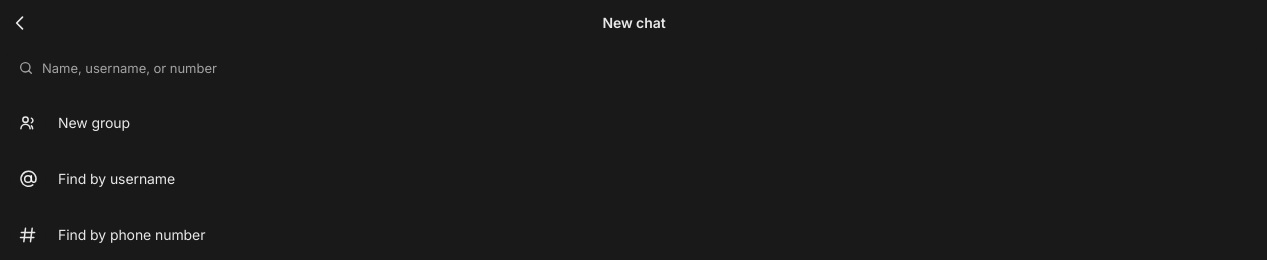
Test: NewChatPanel › offers to add a number that is not yet a contact
In the field with placeholder "Name, username, or number": (646, 68) [42,55,1250,81], type "+15559998888"
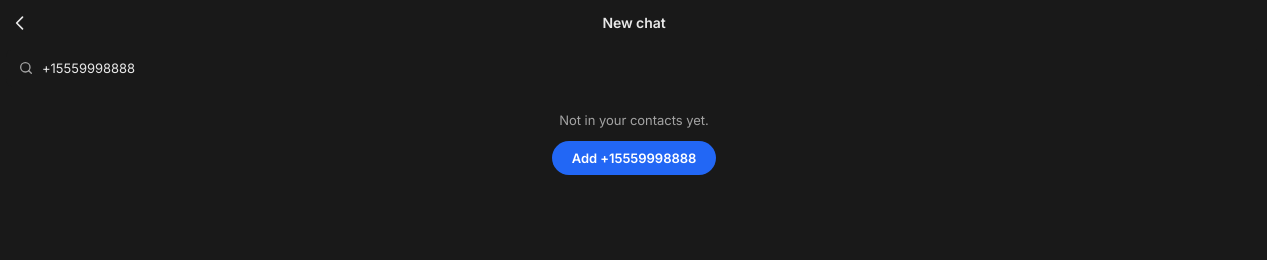
Expected: the button "Add +15559998888" is shown, [552,141,716,175]
